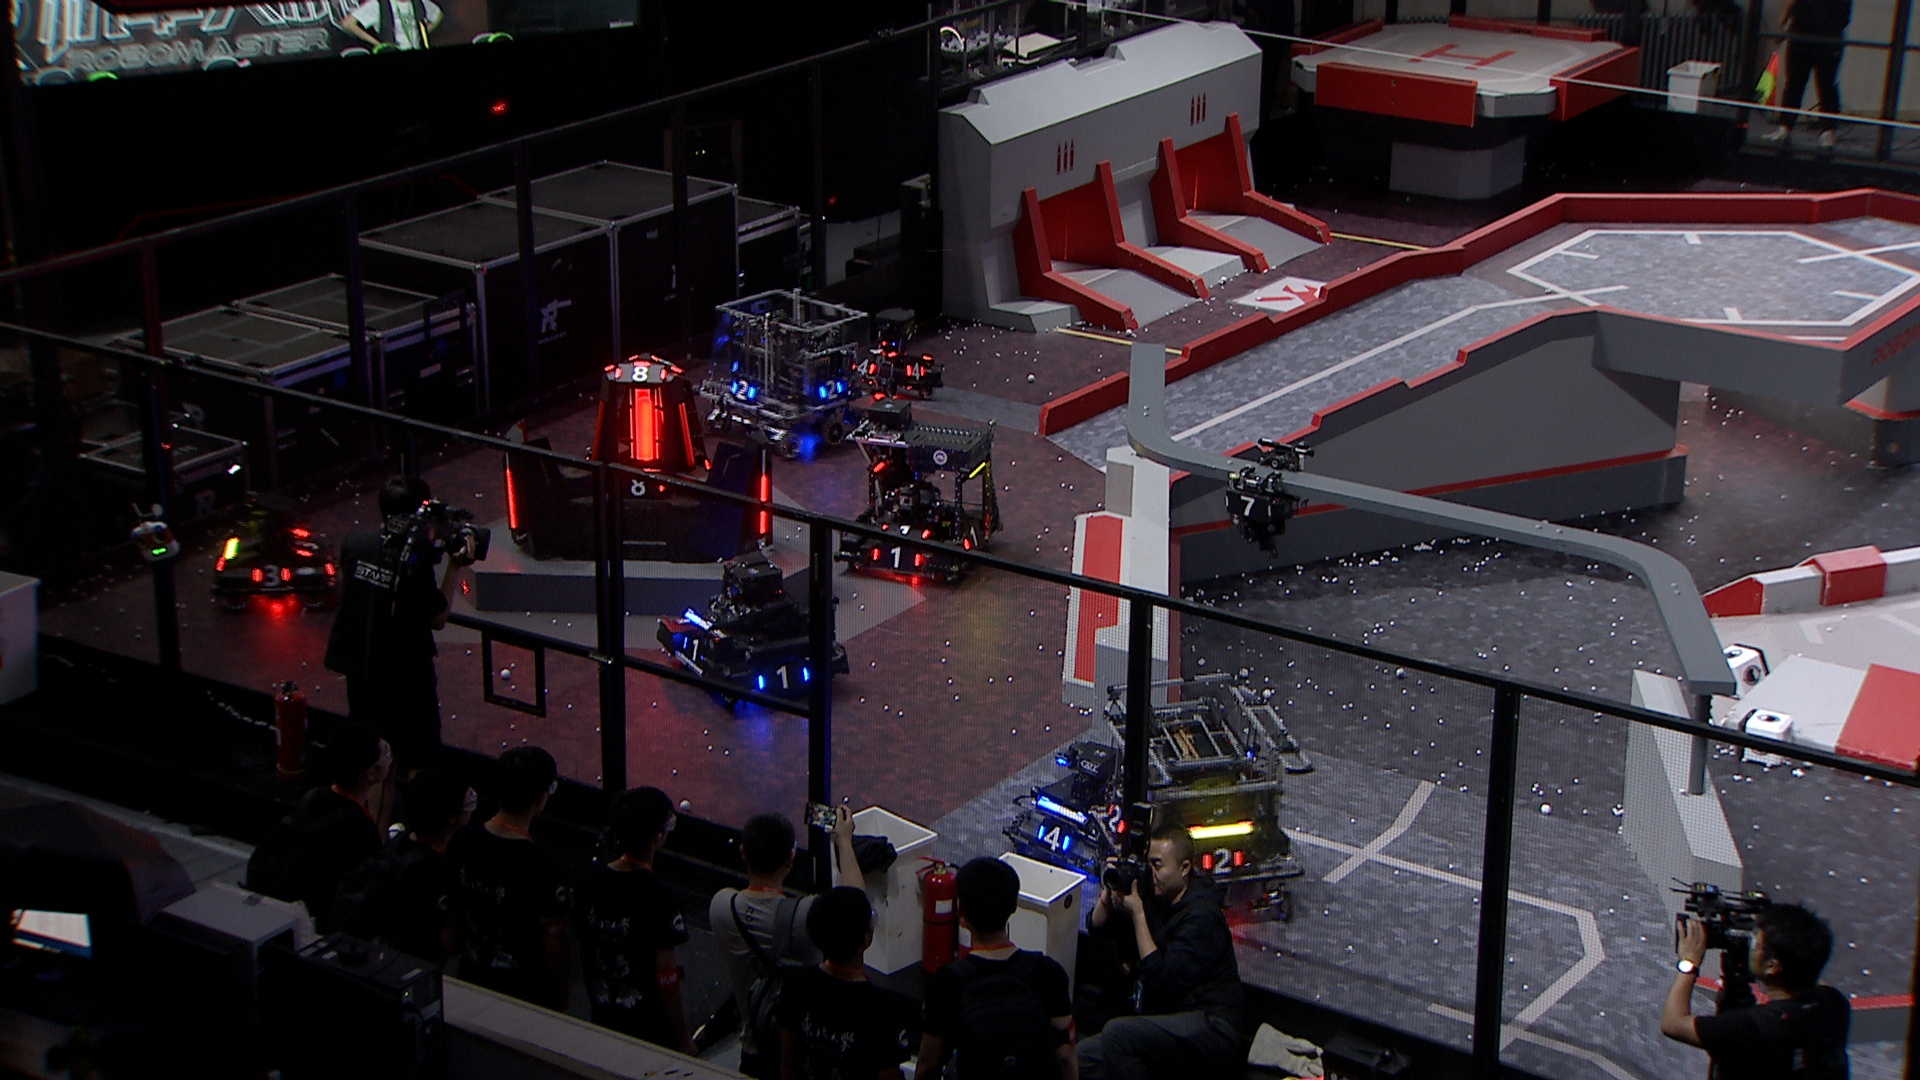armor: (626, 386, 659, 462), (756, 661, 808, 694), (676, 401, 700, 469), (1200, 845, 1245, 877), (872, 545, 926, 570), (1224, 493, 1273, 520), (1035, 822, 1072, 856), (611, 363, 669, 384), (249, 560, 291, 588), (588, 400, 607, 462), (502, 465, 520, 531), (880, 520, 932, 541), (618, 473, 666, 496), (756, 472, 771, 535), (680, 632, 709, 665), (291, 531, 324, 559), (1105, 799, 1127, 837), (959, 524, 988, 553), (818, 376, 845, 400), (862, 345, 901, 361), (320, 551, 343, 578), (856, 357, 880, 380), (731, 380, 757, 400), (903, 363, 930, 381)
base: (502, 353, 774, 562)
car: (1092, 670, 1320, 913), (832, 401, 1002, 585), (657, 550, 847, 707), (698, 290, 873, 458), (1002, 741, 1149, 876), (206, 502, 349, 613), (841, 305, 951, 404)
watcher: (1221, 436, 1316, 560)
